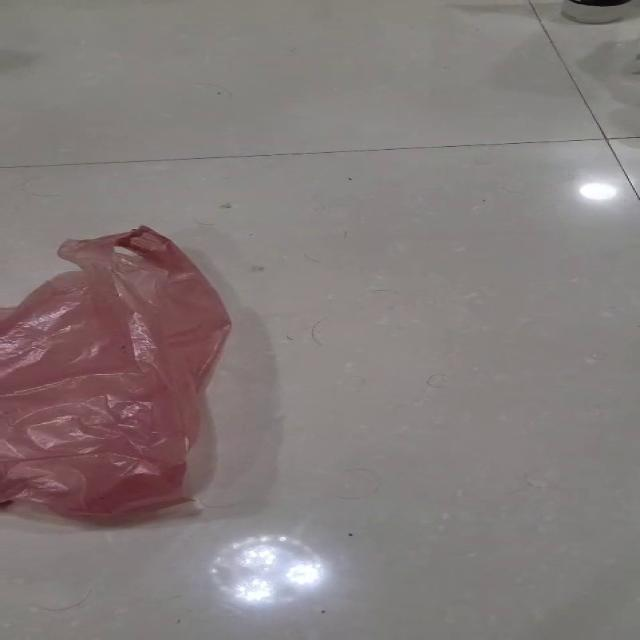plastic: (0, 224, 232, 518)
